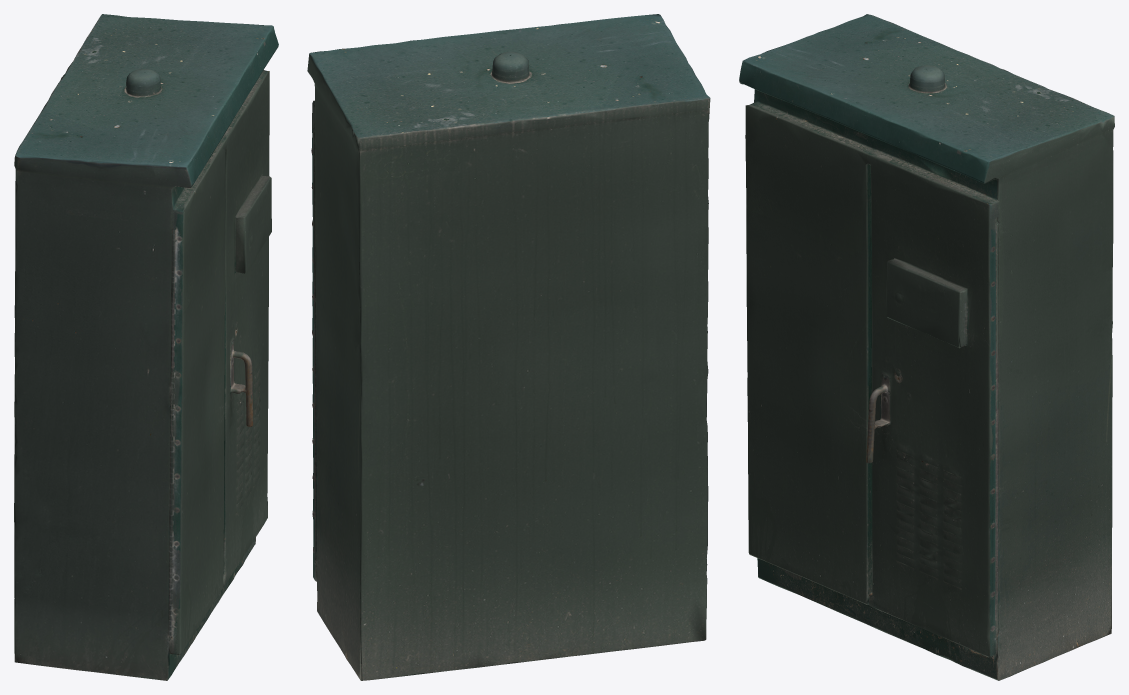
The model's file is traffic_signal_control_cabinet_-_3d_scan_quixel.glb.
3 renders of one model, left to right at view 1: azimuth 30°, elevation 25°; view 2: azimuth 150°, elevation 25°; view 3: azimuth 270°, elevation 25°, orthographic. The views are drawn at different scales.
Parts seen in each view (by area): view 1: Aset_street__L_uh4ffdmga_LOD0_2; view 2: Aset_street__L_uh4ffdmga_LOD0_2; view 3: Aset_street__L_uh4ffdmga_LOD0_2.
Boxes of the visible parts, x1,y1,x2,y2 form: Aset_street__L_uh4ffdmga_LOD0_2: (14, 14, 278, 680); Aset_street__L_uh4ffdmga_LOD0_2: (307, 14, 710, 680); Aset_street__L_uh4ffdmga_LOD0_2: (739, 14, 1114, 680).
Size of the model in its own units: 1.01 by 1.6 by 1.01.
Materials: 1 (1 with a texture image).
